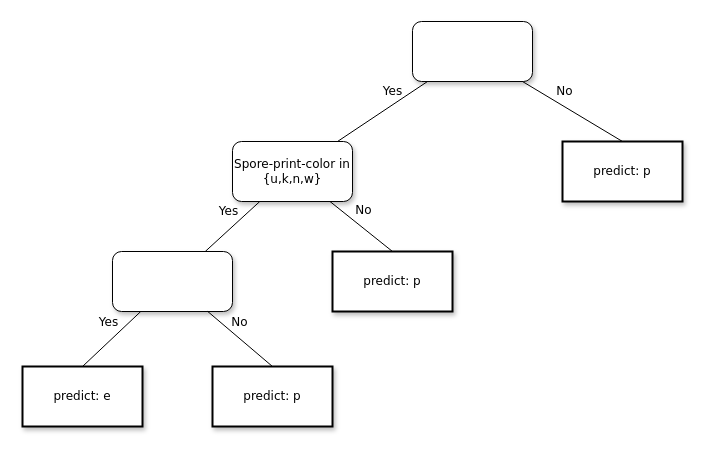
Some shapes in this 706 by 452 pixel diagram are drawn without their labels. Each missing label, with the centre of its shape:
"Odor in {m,a,l,n}" goes at [473,52].
"Population in {a,y,s,n,v}" goes at [173,282].
